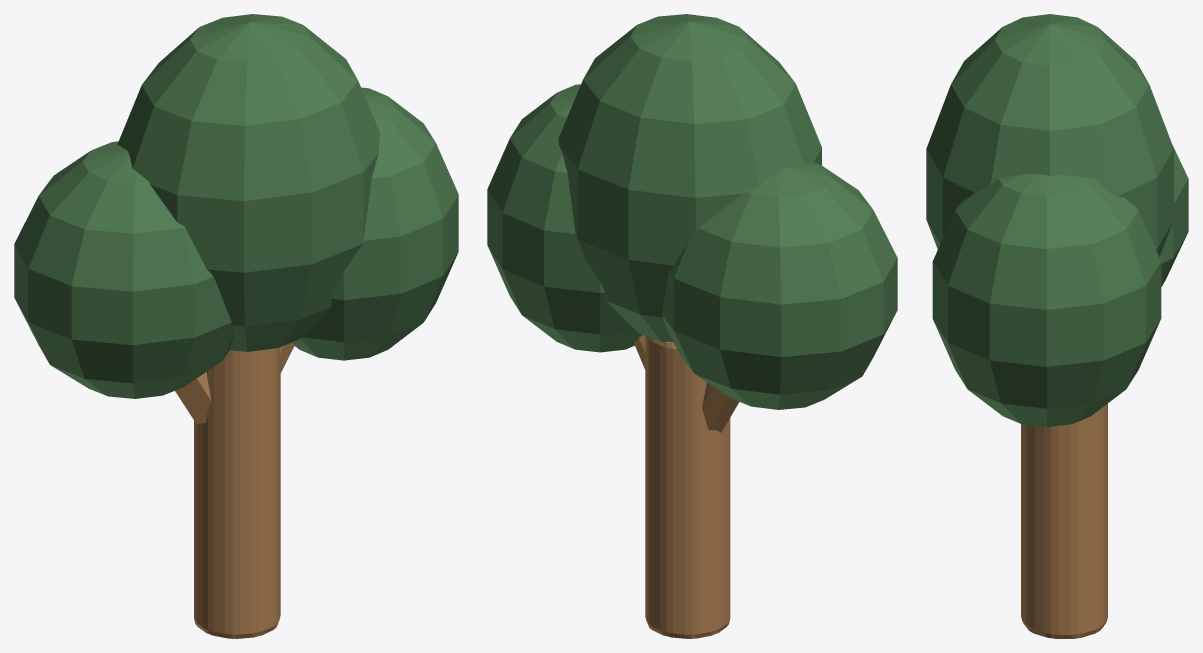
The model's file is SM_BackgroundTree.fbx.
The picture shows the model from 3 angles, left to right: view 1: azimuth 30°, elevation 25°; view 2: azimuth 150°, elevation 25°; view 3: azimuth 270°, elevation 25°; orthographic projection.
Parts seen in each view (by area): view 1: TreeMesh; view 2: TreeMesh; view 3: TreeMesh.
Boxes of the visible parts, bbox=[...] form: TreeMesh: bbox=[14, 14, 458, 638]; TreeMesh: bbox=[487, 14, 897, 638]; TreeMesh: bbox=[926, 14, 1188, 638].
Bounding box in the file's own units: 1.44 × 2.07 × 0.8159.
